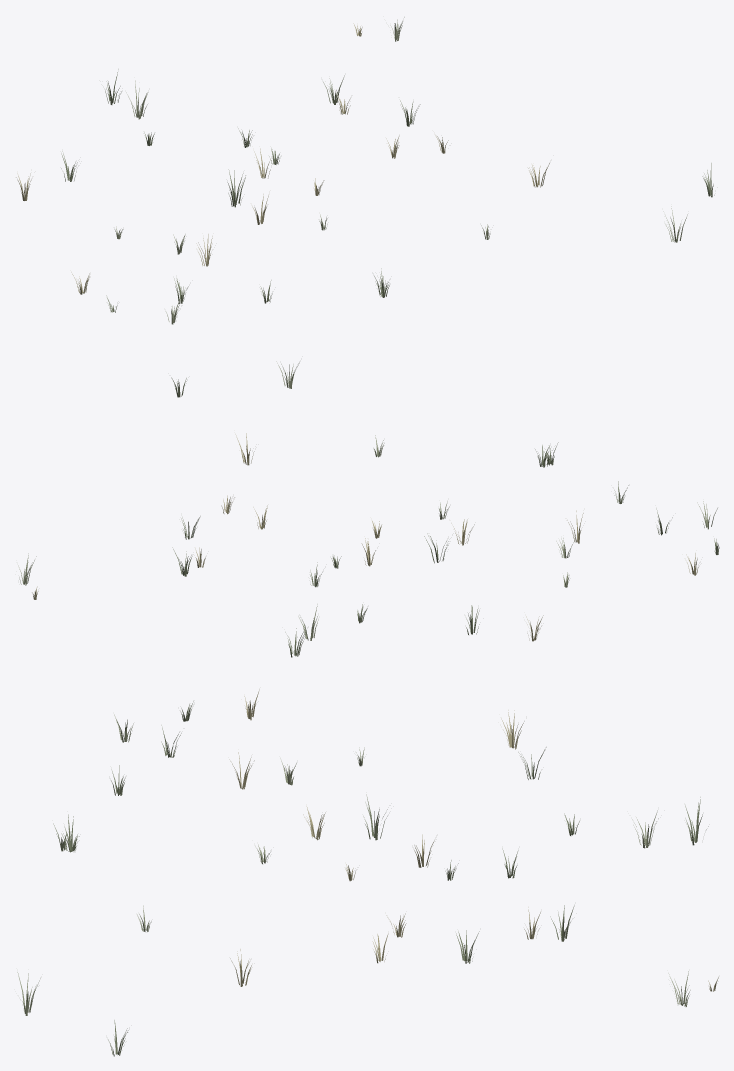
File: AE_Grass_0_0.fbx
3 views of the same model, one above another, from view 1: azimuth 30°, elevation 25°; view 2: azimuth 150°, elevation 25°; view 3: azimuth 270°, elevation 25° (orthographic). The views are drawn at different scales.
Parts seen in each view (by area): view 1: AE_Grass_0_0_LOD0; view 2: AE_Grass_0_0_LOD0; view 3: AE_Grass_0_0_LOD0.
Boxes of the visible parts, <box> form: AE_Grass_0_0_LOD0: <box>16,17,714,324</box>; AE_Grass_0_0_LOD0: <box>18,361,719,657</box>; AE_Grass_0_0_LOD0: <box>17,689,718,1056</box>.
Size of what is drawn, in the model's own units: 1778 by 108 by 1544.
